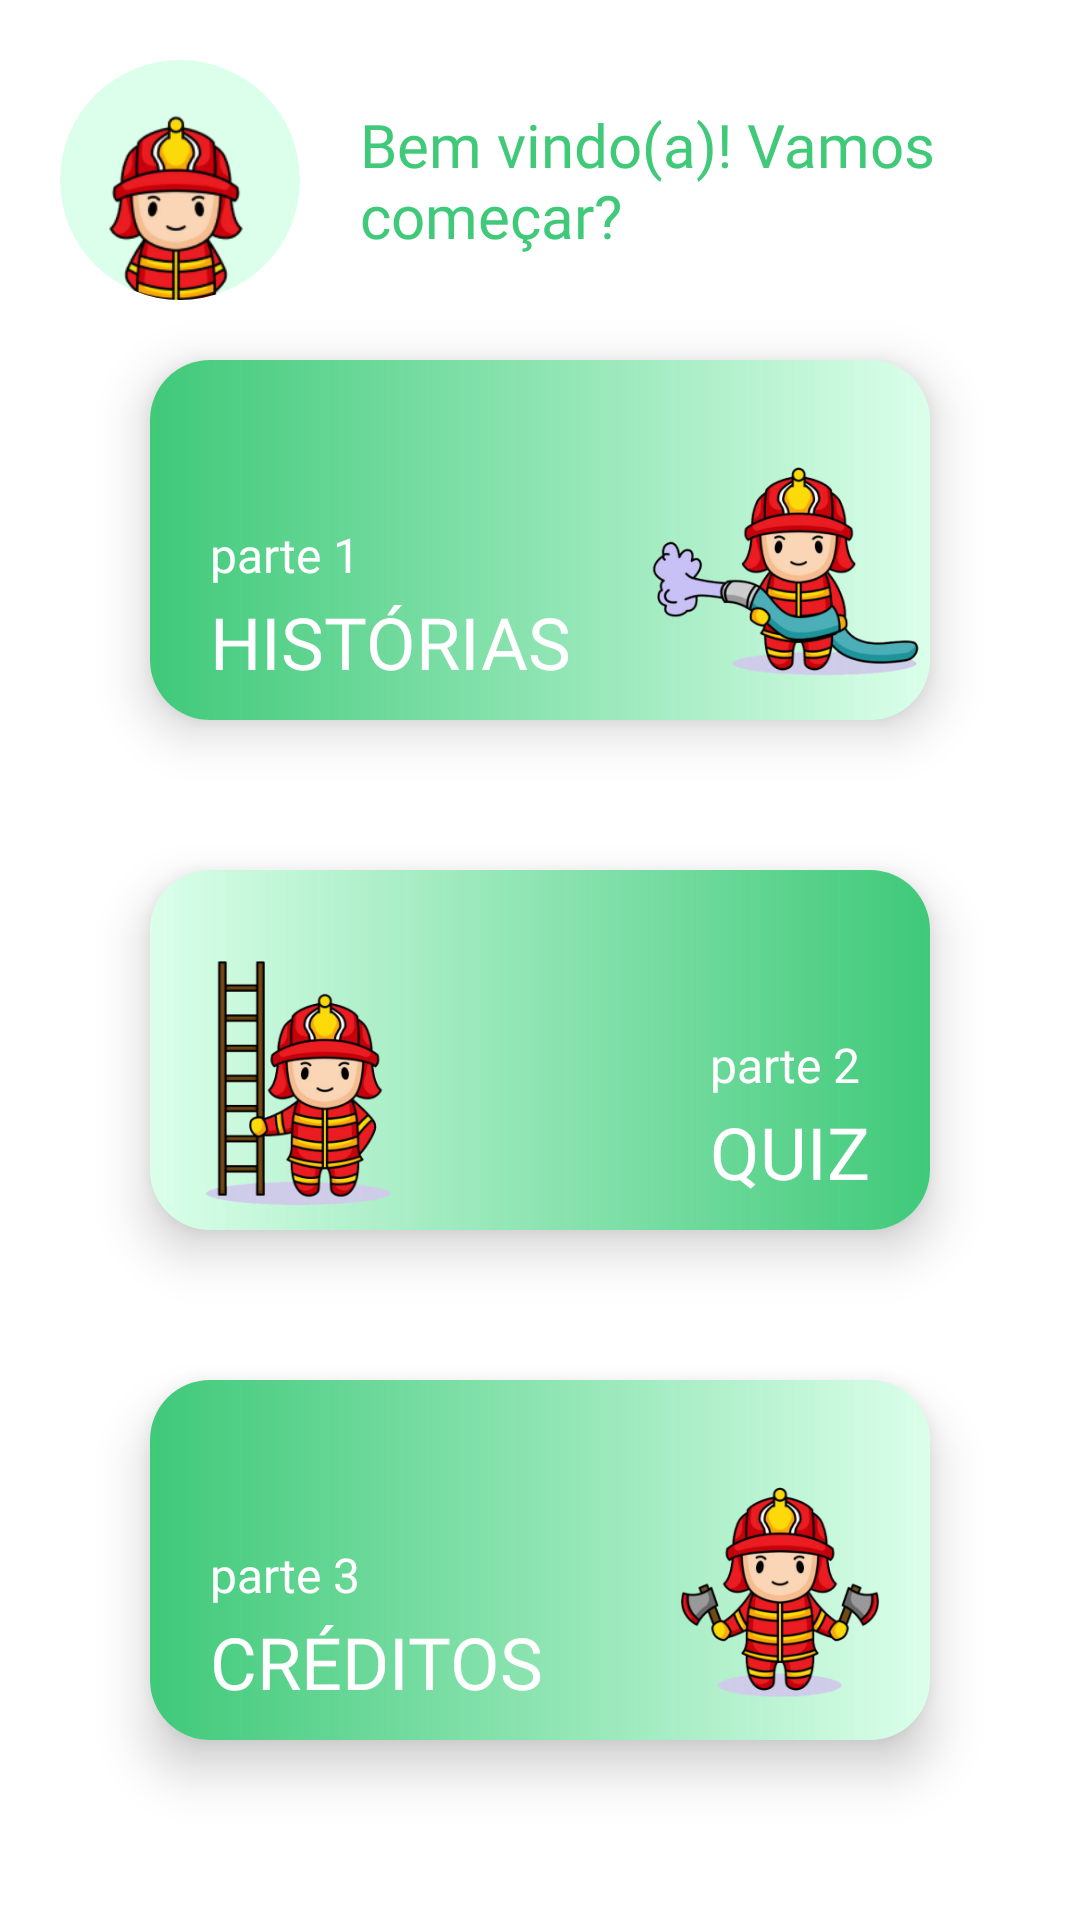

Icons on this 1080 x 1920 Android screen, each with the point to tap as (x=x, y=y):
bombeiro: (x=180, y=180)
bombeiro escadinha: (x=300, y=1079)
bombeiro machadinha: (x=780, y=1589)
bombeiro mangueira: (x=785, y=569)
